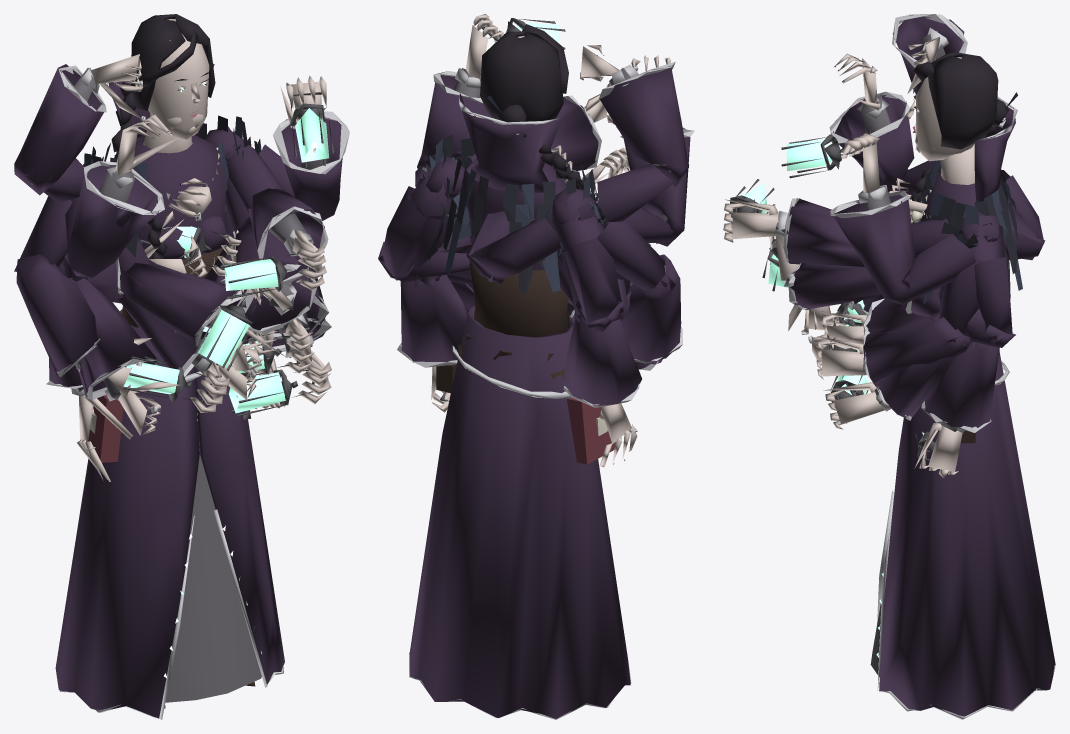
File: human_robe.glb
The picture shows the model from 3 angles, left to right: view 1: azimuth 30°, elevation 25°; view 2: azimuth 150°, elevation 25°; view 3: azimuth 270°, elevation 25°; orthographic projection. The views are drawn at different scales.
Parts seen in each view (by area): view 1: B_0d, R.raised_3d, R.cast_6d, L.bowArm_12d, R.staffR_5d, L.cast_15d, L.xbowL_14d, R.xbowR_8d, R.weapon_2d, L.weapon_18d, R.twoR_7d, L.twoL_13d (+5 smaller); view 2: B_0d, R.raised_3d, R.staffR_5d, R.rest_1d, L.rest_10d, L.cast_15d, R.draw_4d, R.carry_9d, L.carry_17d, R.cast_6d, L.bowArm_12d, L.xbowL_14d; view 3: B_0d, L.cast_15d, L.shield_11d, L.bowArm_12d, L.rest_10d, R.cast_6d, L.weapon_18d, L.xbowL_14d, L.carry_17d, R.raised_3d, L.book_16d, R.draw_4d (+1 smaller).
Boxes of the visible parts, left/top/right/bottom form: B_0d: left=55, top=14, right=284, bottom=719; R.raised_3d: left=14, top=54, right=142, bottom=202; R.cast_6d: left=64, top=114, right=178, bottom=277; L.bowArm_12d: left=220, top=145, right=328, bottom=299; R.staffR_5d: left=14, top=196, right=151, bottom=396; L.cast_15d: left=259, top=75, right=349, bottom=220; L.xbowL_14d: left=195, top=144, right=317, bottom=371; R.xbowR_8d: left=118, top=237, right=286, bottom=373; R.weapon_2d: left=62, top=230, right=180, bottom=435; L.weapon_18d: left=224, top=205, right=331, bottom=416; R.twoR_7d: left=117, top=294, right=267, bottom=399; L.twoL_13d: left=123, top=176, right=249, bottom=412; B_0d: left=409, top=24, right=631, bottom=719; R.raised_3d: left=577, top=45, right=688, bottom=223; R.staffR_5d: left=577, top=207, right=682, bottom=363; R.rest_1d: left=557, top=214, right=641, bottom=467; L.rest_10d: left=397, top=198, right=468, bottom=412; L.cast_15d: left=415, top=14, right=565, bottom=187; R.draw_4d: left=466, top=145, right=595, bottom=284; R.carry_9d: left=558, top=215, right=627, bottom=331; L.carry_17d: left=378, top=168, right=471, bottom=282; R.cast_6d: left=591, top=55, right=694, bottom=246; L.bowArm_12d: left=451, top=85, right=685, bottom=170; L.xbowL_14d: left=452, top=147, right=657, bottom=245; B_0d: left=870, top=52, right=1055, bottom=719; L.cast_15d: left=781, top=130, right=987, bottom=305; L.shield_11d: left=816, top=236, right=993, bottom=387; L.bowArm_12d: left=723, top=179, right=954, bottom=267; L.rest_10d: left=914, top=239, right=999, bottom=477; R.cast_6d: left=829, top=53, right=935, bottom=200; L.weapon_18d: left=823, top=285, right=955, bottom=429; L.xbowL_14d: left=762, top=235, right=881, bottom=309; L.carry_17d: left=905, top=219, right=1015, bottom=347; R.raised_3d: left=892, top=14, right=967, bottom=94; L.book_16d: left=821, top=237, right=994, bottom=349; R.draw_4d: left=888, top=175, right=1045, bottom=260.
Bounding box in the file's own units: 0.8289 × 1.76 × 0.8557.
